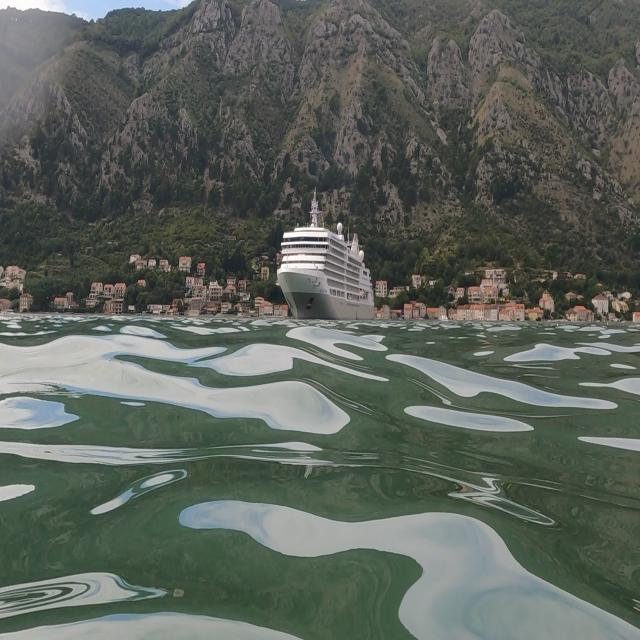boat: (274, 185, 377, 322)
